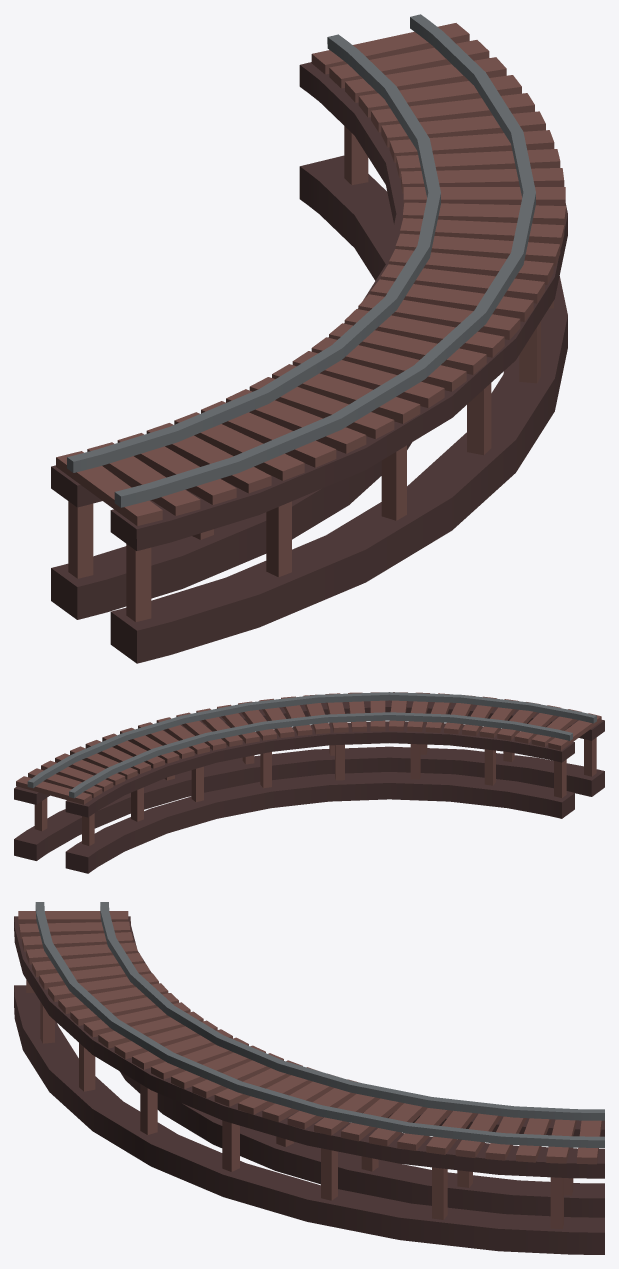
Rendered from DarkRoseWoodMechMedium0_96GaugeRightTurn1.fbx.
The picture shows the model from 3 angles, top to bottom: view 1: azimuth 30°, elevation 25°; view 2: azimuth 150°, elevation 25°; view 3: azimuth 270°, elevation 25°; orthographic projection. The views are drawn at different scales.
Visible parts, largest first — view 1: DarkRoseWoodMechMedium0_96GaugeRightTurn1; view 2: DarkRoseWoodMechMedium0_96GaugeRightTurn1; view 3: DarkRoseWoodMechMedium0_96GaugeRightTurn1.
Part boxes in pixels (x1,y1,x2,y2): DarkRoseWoodMechMedium0_96GaugeRightTurn1: (51,14,567,663); DarkRoseWoodMechMedium0_96GaugeRightTurn1: (14,692,604,873); DarkRoseWoodMechMedium0_96GaugeRightTurn1: (14,902,604,1254).
Size of the model in its own units: 1114 by 221 by 1121.
